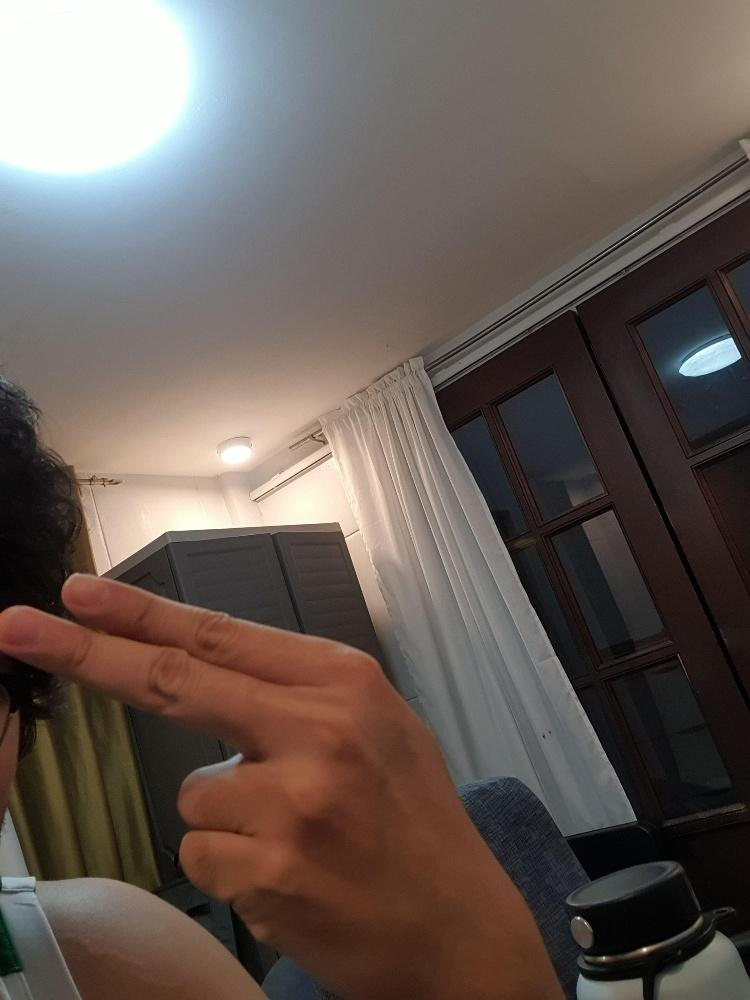h: (1, 564, 566, 997)
